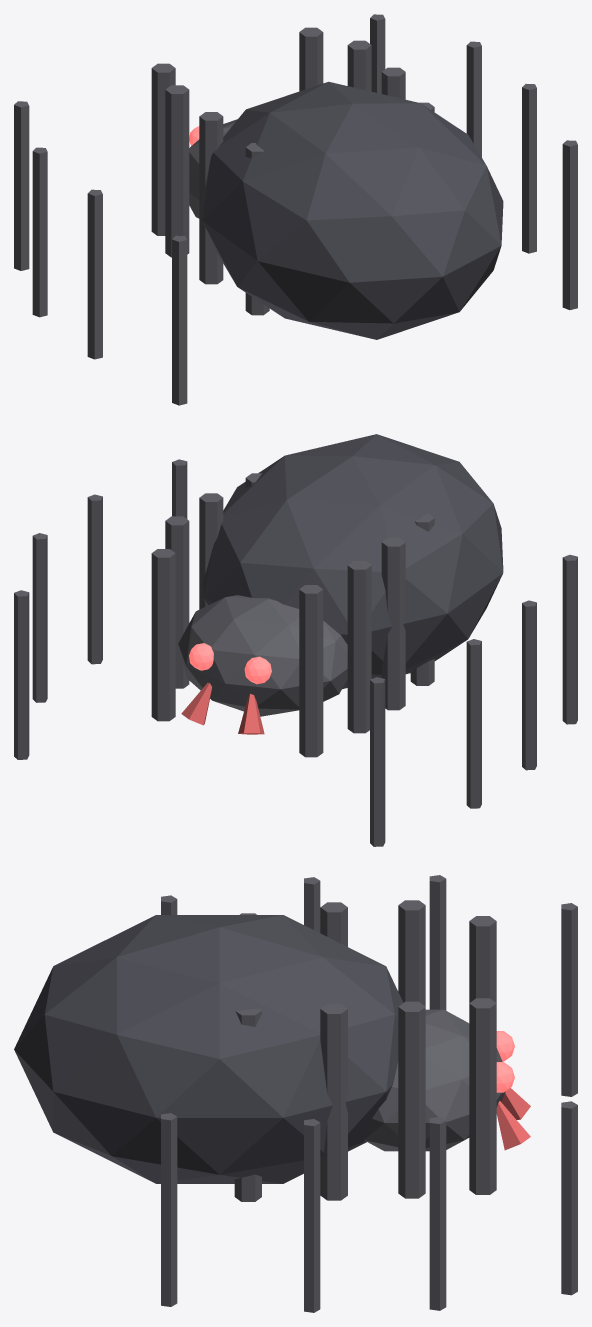
Rendered from Spider.fbx.
3 renders of one model, top to bottom at view 1: azimuth 30°, elevation 25°; view 2: azimuth 150°, elevation 25°; view 3: azimuth 270°, elevation 25°, orthographic. The views are drawn at different scales.
Parts seen in each view (by area): view 1: Abdomen, Leg_MLL_Upper, Leg_FL_Upper, Leg_BR_Lower, Leg_MLL_Lower, Leg_FL_Lower, Leg_MLL_Lower.001, Leg_BL_Lower, Leg_MLR_Lower.001, Leg_MLL_Upper.001, Leg_MLR_Lower, Leg_FR_Upper (+5 smaller); view 2: Abdomen, Head, Leg_FR_Upper, Leg_FL_Upper, Leg_MLL_Upper, Leg_MLL_Upper.001, Leg_BL_Lower, Leg_FL_Lower, Leg_FR_Lower, Leg_MLR_Lower.001, Leg_MLL_Lower, Leg_MLR_Lower (+9 smaller); view 3: Abdomen, Head, Leg_MLR_Upper, Leg_FR_Upper, Leg_MLR_Upper.001, Leg_MLR_Lower, Leg_FR_Lower, Leg_FL_Lower, Leg_BR_Lower, Leg_MLR_Lower.001, Leg_MLL_Upper, Leg_MLL_Lower (+5 smaller).
Boxes of the visible parts, x1,y1,x2,y2 form: Abdomen: (202,81,503,339); Leg_MLL_Upper: (165,85,189,257); Leg_FL_Upper: (151,63,175,235); Leg_BR_Lower: (562,140,577,309); Leg_MLL_Lower: (32,147,47,317); Leg_FL_Lower: (14,101,29,270); Leg_MLL_Lower.001: (87,189,102,359); Leg_BL_Lower: (172,235,187,405); Leg_MLR_Lower.001: (522,83,536,253); Leg_MLL_Upper.001: (199,112,223,284); Leg_MLR_Lower: (466,41,481,157); Leg_FR_Upper: (299,27,323,91); Abdomen: (203,434,503,689); Head: (178,595,347,716); Leg_FR_Upper: (151,549,175,721); Leg_FL_Upper: (299,585,323,757); Leg_MLL_Upper: (347,561,371,733); Leg_MLL_Upper.001: (381,537,405,710); Leg_BL_Lower: (562,554,577,724); Leg_FL_Lower: (370,677,385,846); Leg_FR_Lower: (14,590,29,759); Leg_MLR_Lower.001: (87,494,102,664); Leg_MLL_Lower: (466,639,481,808); Leg_MLR_Lower: (32,533,47,702); Abdomen: (14,915,403,1183); Head: (364,1009,505,1151); Leg_MLR_Upper: (398,1001,425,1198); Leg_FR_Upper: (469,998,496,1194); Leg_MLR_Upper.001: (320,1004,347,1200); Leg_MLR_Lower: (429,1117,446,1310); Leg_FR_Lower: (561,1101,577,1295); Leg_FL_Lower: (561,903,577,1096); Leg_BR_Lower: (161,1113,177,1306); Leg_MLR_Lower.001: (304,1119,320,1312); Leg_MLL_Upper: (398,900,425,1006); Leg_MLL_Lower: (429,875,446,1010).
Size of what is drawn, in the model's own units: 2.58 by 2.46 by 1.29.
